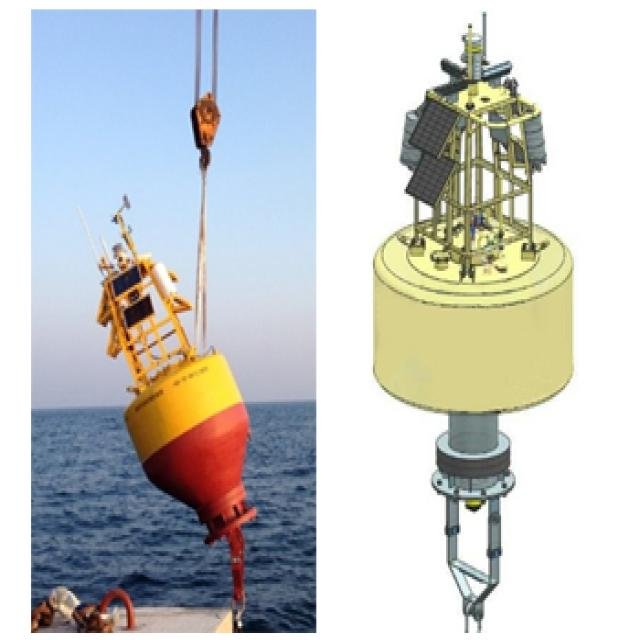marque: (360, 13, 595, 638), (52, 16, 278, 587)
